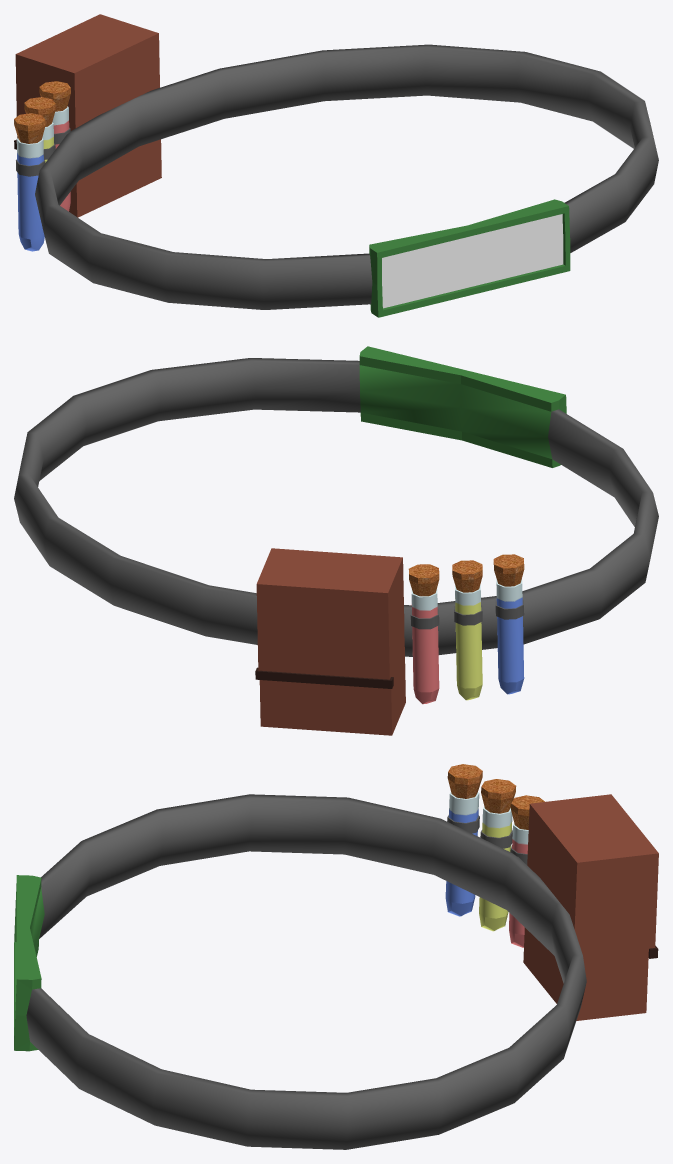
File: 512_Belt_Green.fbx
3 renders of one model, top to bottom at view 1: azimuth 30°, elevation 25°; view 2: azimuth 150°, elevation 25°; view 3: azimuth 270°, elevation 25°, orthographic. The views are drawn at different scales.
Parts seen in each view (by area): view 1: Belt002; view 2: Belt002; view 3: Belt002.
Boxes of the visible parts, <box> form: Belt002: <box>14,14,658,317</box>; Belt002: <box>14,346,658,735</box>; Belt002: <box>14,764,658,1149</box>.
Size of the model in its own units: 200 by 49.6 by 178.
